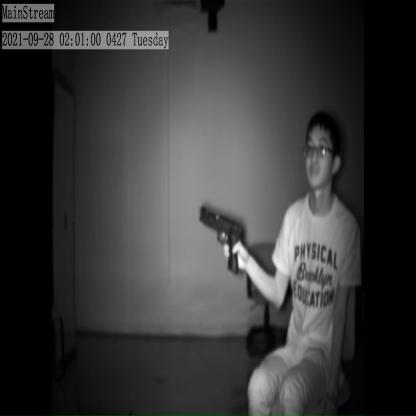weapon: (197, 202, 246, 277)
